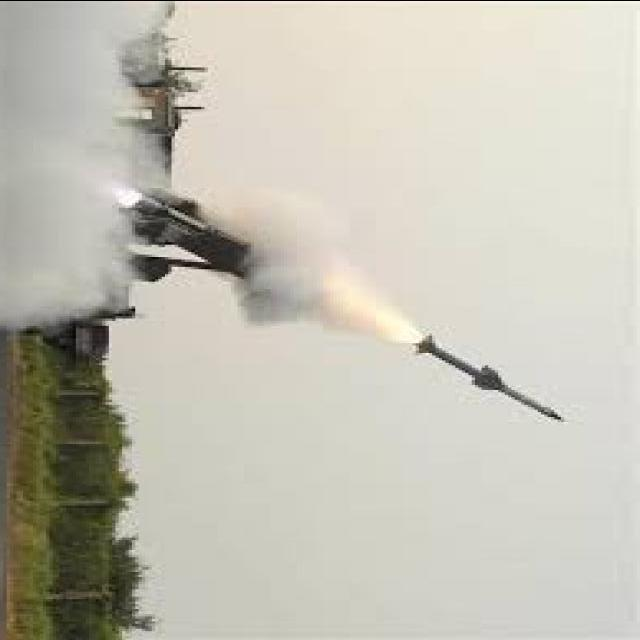missile: (416, 336, 568, 443)
